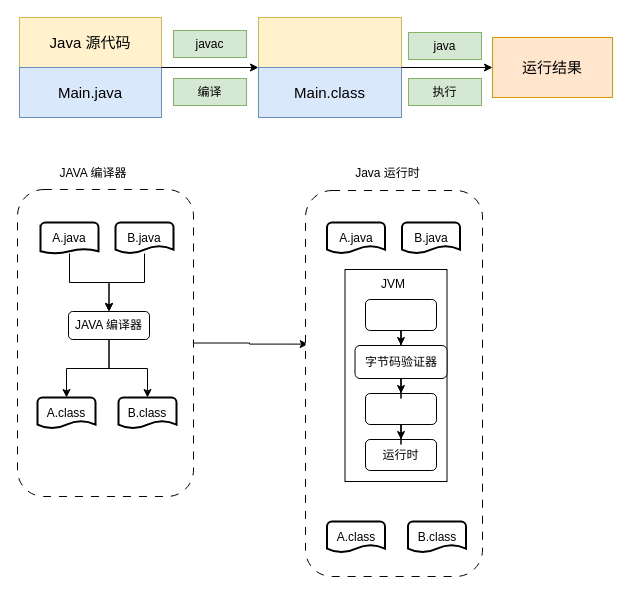
Image size: 630x594. Some labels were removed from this diagram. Here are the shapes that lost their labels. From the top down, the box of each, then its label:
(258, 16, 402, 68): Java 字节码文件
(364, 298, 436, 330): 类装配器
(364, 392, 436, 424): 解释器
